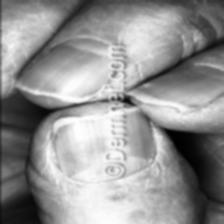Toxin: (57, 110, 156, 182), (104, 186, 128, 208)
